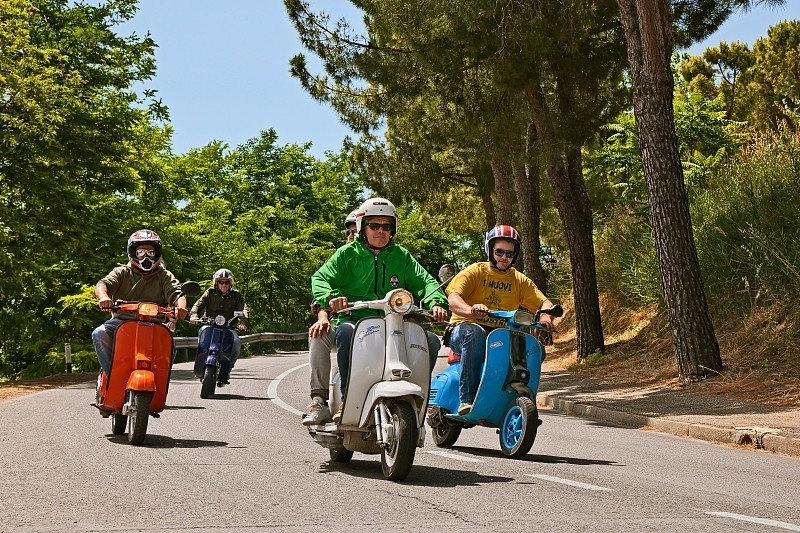non-vehicle: (309, 275, 433, 480), (431, 294, 562, 460), (94, 293, 179, 439), (190, 309, 244, 397)
